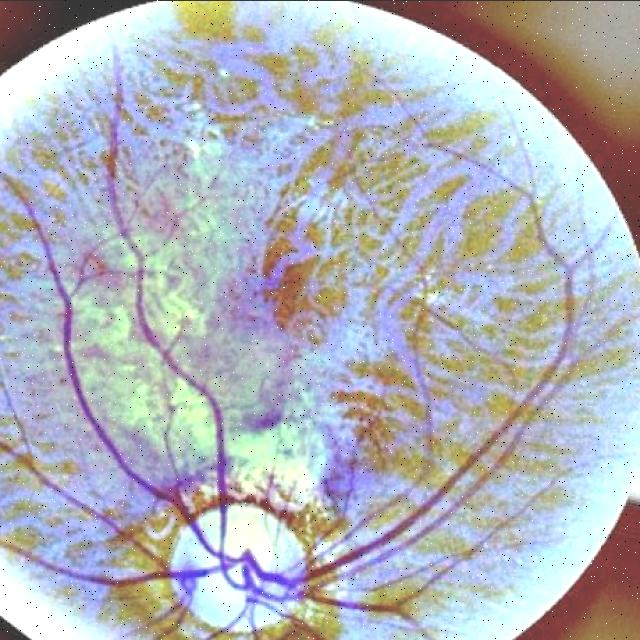Macula: (264, 257, 314, 328)
Nerves: (0, 53, 573, 640), (410, 262, 476, 348), (395, 344, 433, 437)
Optic Disk: (171, 504, 303, 629)
